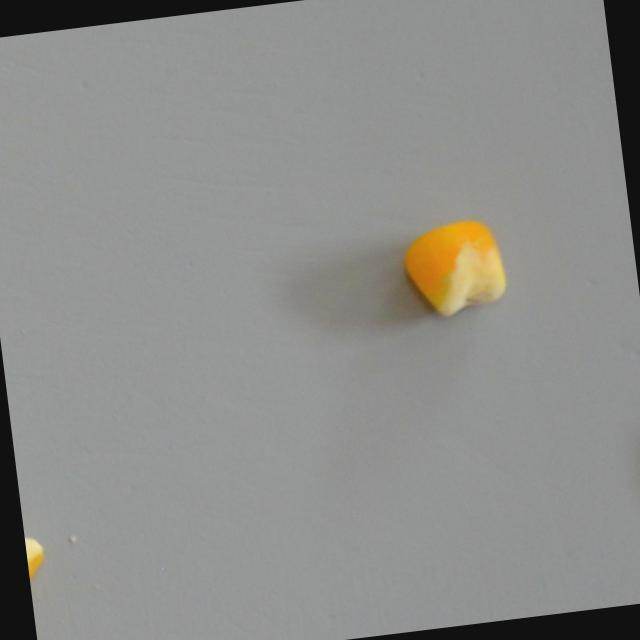dañado: (23, 524, 55, 636)
pelicula: (397, 213, 510, 321)
